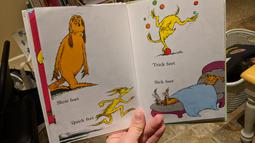text block: (147, 57, 180, 68), (52, 95, 84, 106), (69, 115, 98, 127), (150, 76, 177, 85)
